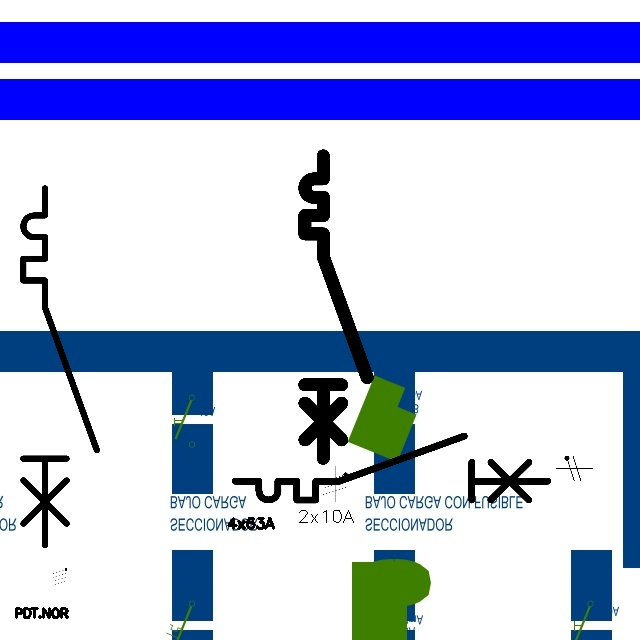interruptor_termomagnetico: (14, 179, 106, 554), (227, 428, 556, 508), (297, 148, 375, 466)
